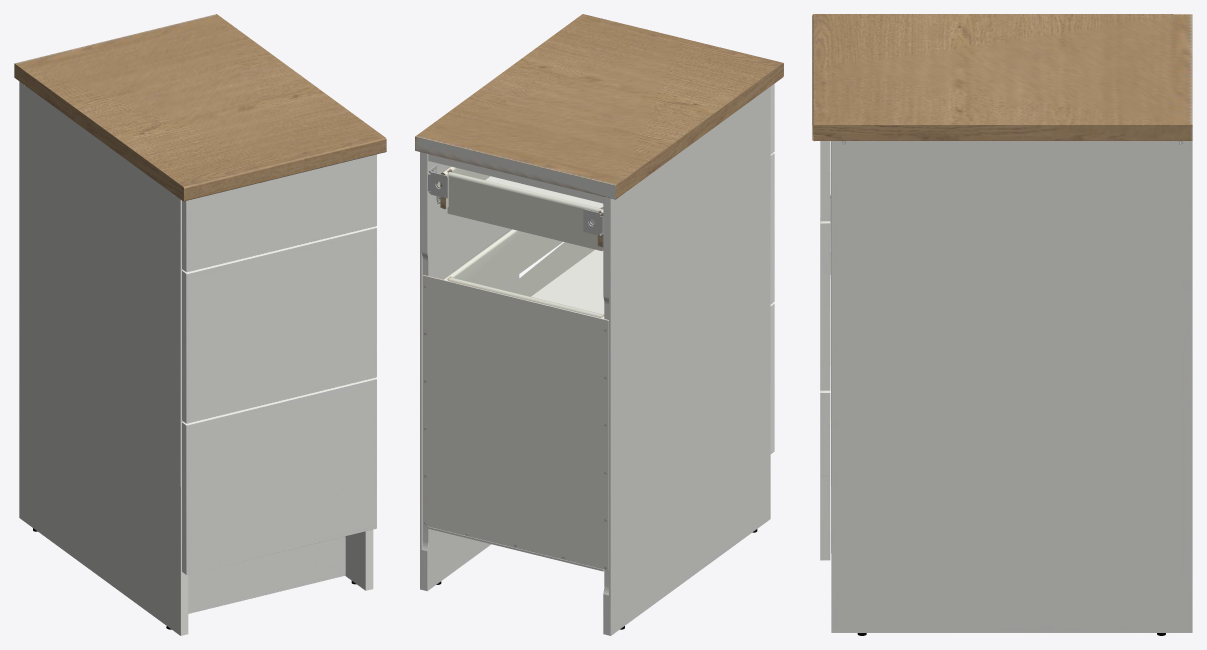
File: knoxhult_szafka_z_szufladami_90326787.glb
3 renders of one model, left to right at view 1: azimuth 30°, elevation 25°; view 2: azimuth 150°, elevation 25°; view 3: azimuth 270°, elevation 25°, orthographic. The views are drawn at different scales.
Parts seen in each view (by area): view 1: knoxhult_szafka_z_szufladami_90326787; view 2: knoxhult_szafka_z_szufladami_90326787; view 3: knoxhult_szafka_z_szufladami_90326787.
Boxes of the visible parts, bbox=[...] form: knoxhult_szafka_z_szufladami_90326787: bbox=[14, 14, 386, 635]; knoxhult_szafka_z_szufladami_90326787: bbox=[415, 14, 783, 635]; knoxhult_szafka_z_szufladami_90326787: bbox=[812, 14, 1192, 635].
Size of the model in its own units: 0.4204 by 0.9095 by 0.61.
2 materials, 2 textured.
